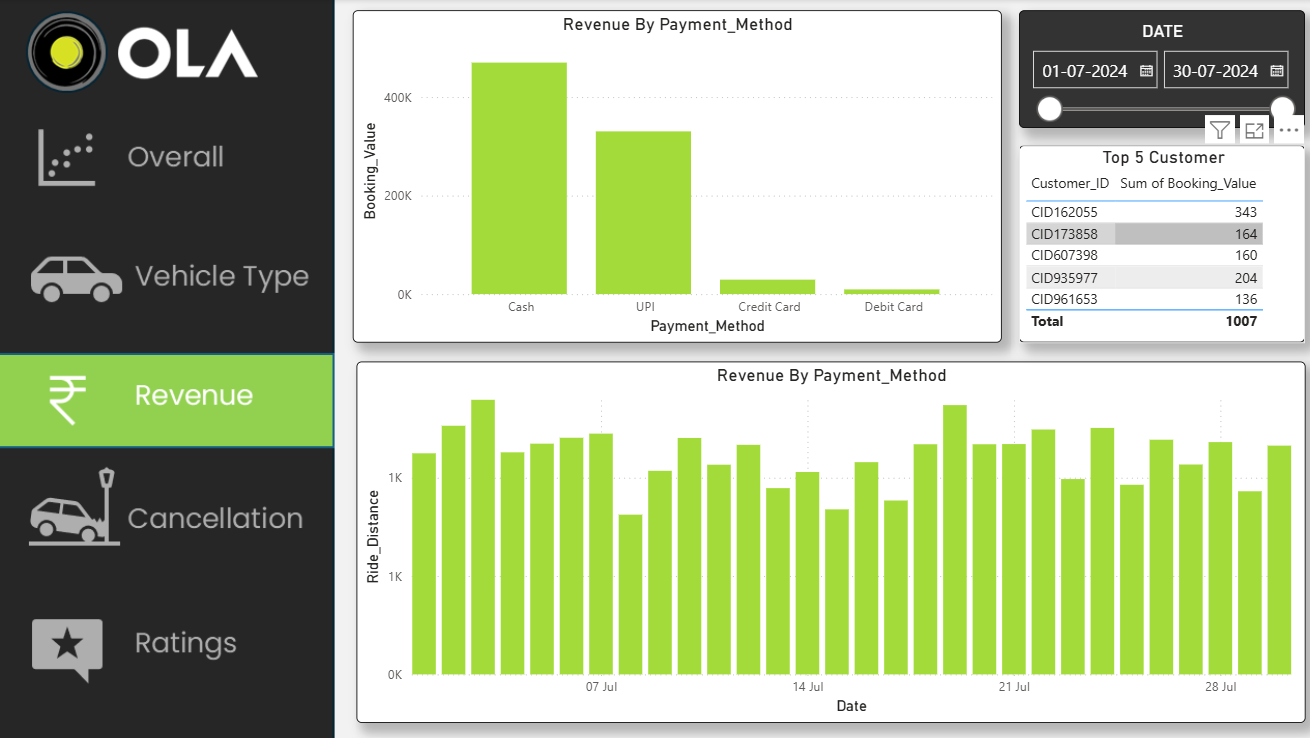

Layout of this report page (visuals, bound fields, positions):
{"tool":"powerbi","page":{"name":"Revenue","canvas":[1280,720],"ordinal":2},"visuals":[{"type":"actionButton","box":[0,218.2,323.8,90.6],"z":0},{"type":"actionButton","box":[0,107,323.8,90.6],"z":1000},{"type":"actionButton","box":[0,447.3,323.8,90.6],"z":2000},{"type":"actionButton","box":[0,576.3,323.8,90.6],"z":3000},{"type":"columnChart","title":"Revenue By Payment_Method","fields":{"Y":["Sum(Bookings-2000-Rows.Booking_Value)"],"Category":["Bookings-2000-Rows.Payment_Method"]},"box":[341.8,11.2,626.1,320.8],"z":4000},{"type":"columnChart","title":"Revenue By Payment_Method","fields":{"Y":["Sum(Bookings-2000-Rows.Ride_Distance)"],"Category":["Bookings-2000-Rows.Date"]},"box":[344.6,350.2,916.1,348.8],"z":5000},{"type":"slicer","title":"DATE","fields":{"Values":["Bookings-2000-Rows.Date"]},"box":[984.7,11.2,275.9,113.5],"z":6000},{"type":"tableEx","title":"Top 5 Customer","fields":{"Values":["Bookings-2000-Rows.Customer_ID","Sum(Bookings-2000-Rows.Booking_Value)"]},"box":[984.7,141.5,275.9,190.5],"z":7000}]}

Visuals, with their boxes in screenshot pixels (x1, y1, x2, y2), scaled from the page's 1280x720 canvas onto the 1310x738 screenshot:
actionButton: <bbox>0, 224, 331, 317</bbox>
actionButton: <bbox>0, 110, 331, 203</bbox>
actionButton: <bbox>0, 458, 331, 551</bbox>
actionButton: <bbox>0, 591, 331, 684</bbox>
"Revenue By Payment_Method" columnChart: <bbox>350, 11, 991, 340</bbox>
"Revenue By Payment_Method" columnChart: <bbox>353, 359, 1290, 716</bbox>
"DATE" slicer: <bbox>1008, 11, 1290, 128</bbox>
"Top 5 Customer" tableEx: <bbox>1008, 145, 1290, 340</bbox>
